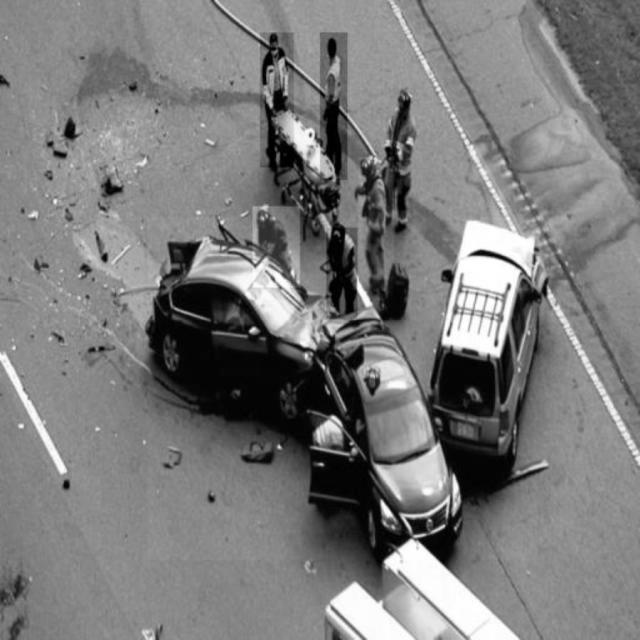accident: (148, 218, 538, 560)
person: (360, 158, 395, 292), (260, 33, 294, 167), (385, 87, 413, 235), (320, 33, 347, 180), (253, 207, 300, 288), (327, 228, 357, 319)
